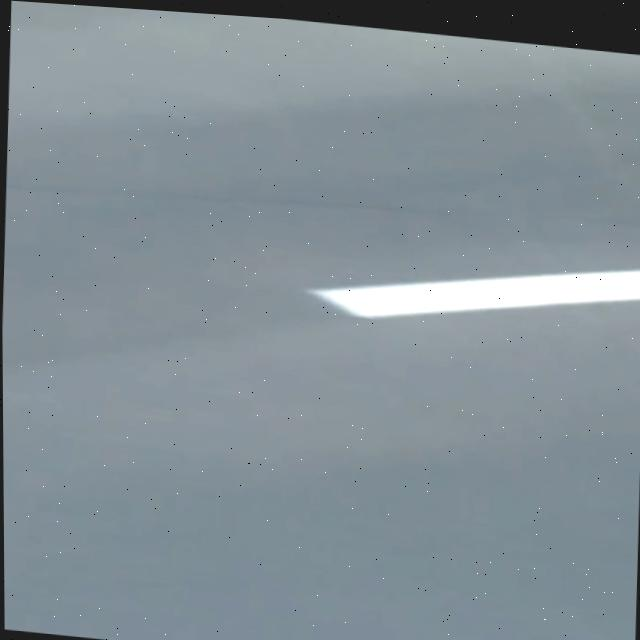center: (309, 269, 640, 318)
